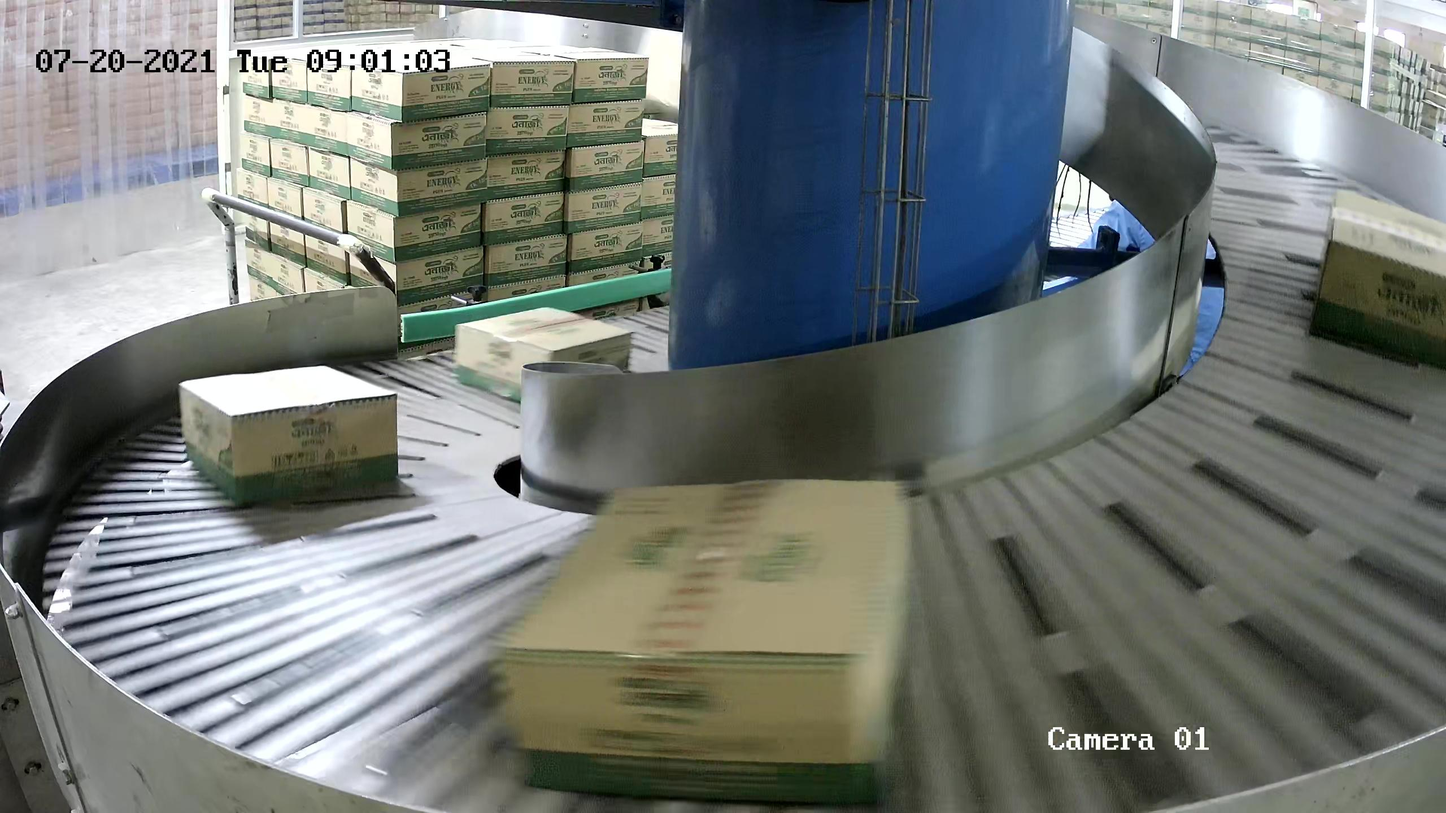Box: (491, 474, 917, 813), (180, 364, 400, 509), (1307, 184, 1446, 380), (454, 305, 633, 409)
